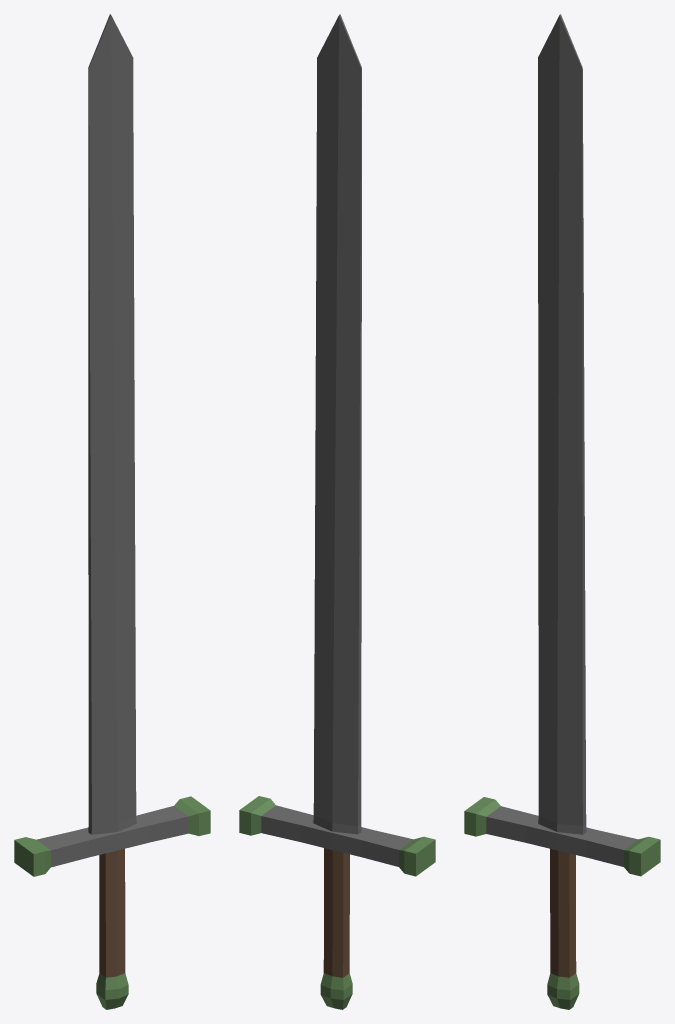
Rendered from adventurer_sword.fbx.
3 renders of one model, left to right at view 1: azimuth 30°, elevation 25°; view 2: azimuth 150°, elevation 25°; view 3: azimuth 330°, elevation 25°, orthographic.
Parts seen in each view (by area): view 1: Sword.001; view 2: Sword.001; view 3: Sword.001.
Part boxes in pixels (bbox=[...]): Sword.001: bbox=[14, 14, 210, 1009]; Sword.001: bbox=[239, 14, 435, 1009]; Sword.001: bbox=[464, 14, 660, 1009].
Size of the model in its own units: 17.89 by 95.96 by 3.43.
Materials: 1 (1 with a texture image).
